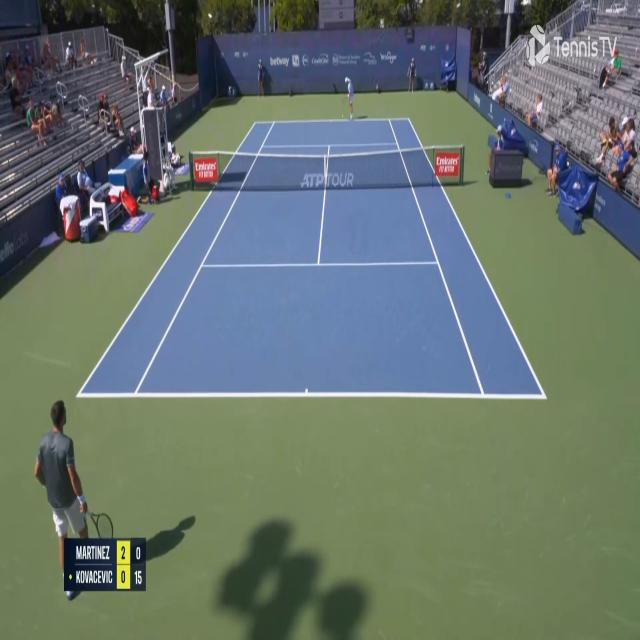tennis-player: (32, 393, 102, 550), (339, 72, 355, 122)
